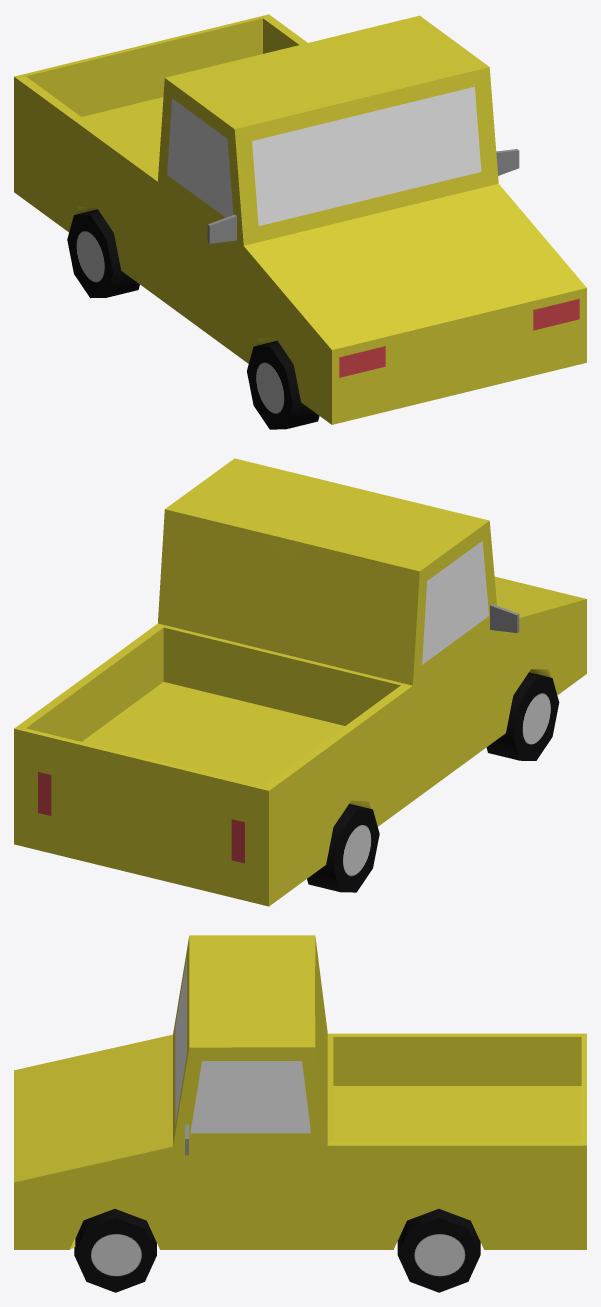
The model's file is Car_3.FBX.
3 renders of one model, top to bottom at view 1: azimuth 30°, elevation 25°; view 2: azimuth 150°, elevation 25°; view 3: azimuth 270°, elevation 25°, orthographic. The views are drawn at different scales.
Visible parts, largest first — view 1: Car 03; view 2: Car 03; view 3: Car 03.
Part boxes in pixels (left/top/right/bottom): Car 03: left=14, top=14, right=586, bottom=429; Car 03: left=14, top=458, right=586, bottom=906; Car 03: left=14, top=935, right=586, bottom=1292.
Bounding box in the file's own units: 1.74 × 1.44 × 3.09.
Materials: 1 (1 with a texture image).
